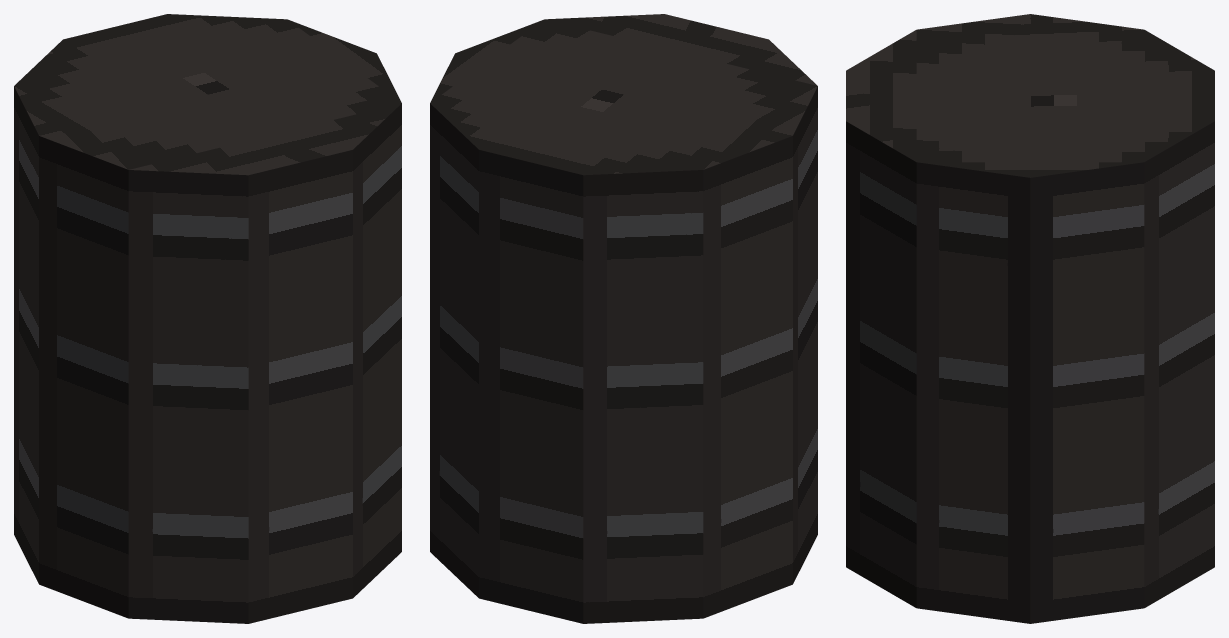
The model's file is Barrel.obj.
3 renders of one model, left to right at view 1: azimuth 30°, elevation 25°; view 2: azimuth 150°, elevation 25°; view 3: azimuth 270°, elevation 25°, orthographic.
Parts seen in each view (by area): view 1: Barrel; view 2: Barrel; view 3: Barrel.
Boxes of the visible parts, x1,y1,x2,y2 form: Barrel: (14,14,401,623); Barrel: (430,14,817,623); Barrel: (846,14,1214,623).
Bounding box in the file's own units: 0.52 × 0.66 × 0.4945.
Materials: 1 (1 with a texture image).
